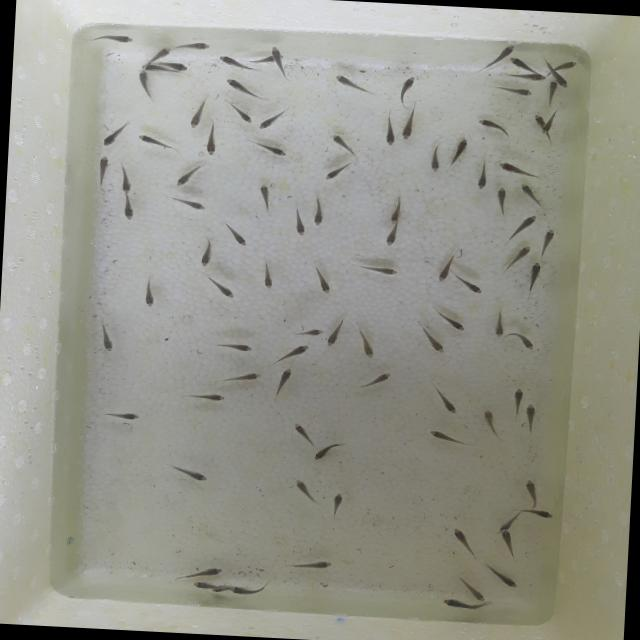fingerling: (422, 378, 463, 414), (410, 324, 449, 354), (217, 366, 266, 388), (202, 275, 242, 301), (176, 564, 230, 583), (480, 564, 519, 590), (473, 116, 518, 138), (353, 329, 381, 364), (507, 212, 543, 239), (304, 268, 334, 300), (514, 476, 548, 504), (290, 554, 331, 576), (360, 367, 396, 392), (180, 389, 230, 407), (223, 78, 265, 99), (170, 464, 212, 485), (449, 528, 484, 553), (432, 254, 462, 283), (492, 160, 540, 178), (504, 241, 530, 274), (376, 110, 399, 147), (220, 224, 254, 249), (102, 407, 146, 426), (458, 579, 492, 603), (446, 308, 474, 337), (288, 476, 317, 504), (515, 180, 546, 206), (288, 416, 316, 444), (276, 341, 310, 364), (214, 55, 256, 73), (252, 181, 278, 210), (209, 340, 259, 355), (324, 318, 349, 348), (176, 160, 202, 188), (322, 160, 355, 182), (478, 408, 502, 438), (395, 74, 417, 106), (524, 260, 546, 292), (188, 98, 208, 133), (397, 104, 414, 144), (115, 162, 136, 194), (329, 74, 366, 92), (98, 322, 116, 359), (422, 429, 466, 444), (88, 34, 142, 46), (519, 401, 537, 437), (441, 597, 484, 612), (96, 125, 124, 148), (500, 84, 540, 100), (471, 164, 492, 194), (255, 141, 292, 158), (538, 228, 562, 254), (310, 442, 336, 466), (228, 102, 255, 125), (508, 386, 528, 417), (276, 365, 294, 399), (308, 198, 328, 228), (288, 208, 308, 238), (259, 268, 279, 298), (547, 69, 573, 92), (457, 278, 488, 297), (451, 136, 472, 164), (142, 280, 158, 316), (510, 330, 534, 354), (513, 506, 554, 520), (258, 108, 284, 130), (204, 125, 222, 156), (94, 153, 112, 184), (327, 131, 352, 153), (291, 326, 327, 341), (120, 198, 142, 222), (177, 196, 210, 212), (498, 527, 519, 552), (136, 70, 156, 96), (326, 492, 348, 515), (489, 312, 507, 340), (175, 40, 210, 54), (428, 141, 442, 176), (134, 133, 166, 148), (188, 578, 218, 594), (268, 45, 284, 74), (524, 110, 549, 128), (504, 56, 536, 70), (542, 108, 558, 136), (199, 240, 215, 268), (364, 262, 396, 276), (391, 195, 405, 225), (504, 72, 544, 82), (494, 42, 514, 62), (496, 186, 508, 218), (497, 514, 518, 532), (384, 227, 399, 251), (232, 585, 261, 597), (133, 64, 171, 73), (544, 80, 558, 104), (554, 59, 579, 72), (247, 54, 273, 66), (148, 46, 168, 61), (153, 62, 190, 70)
